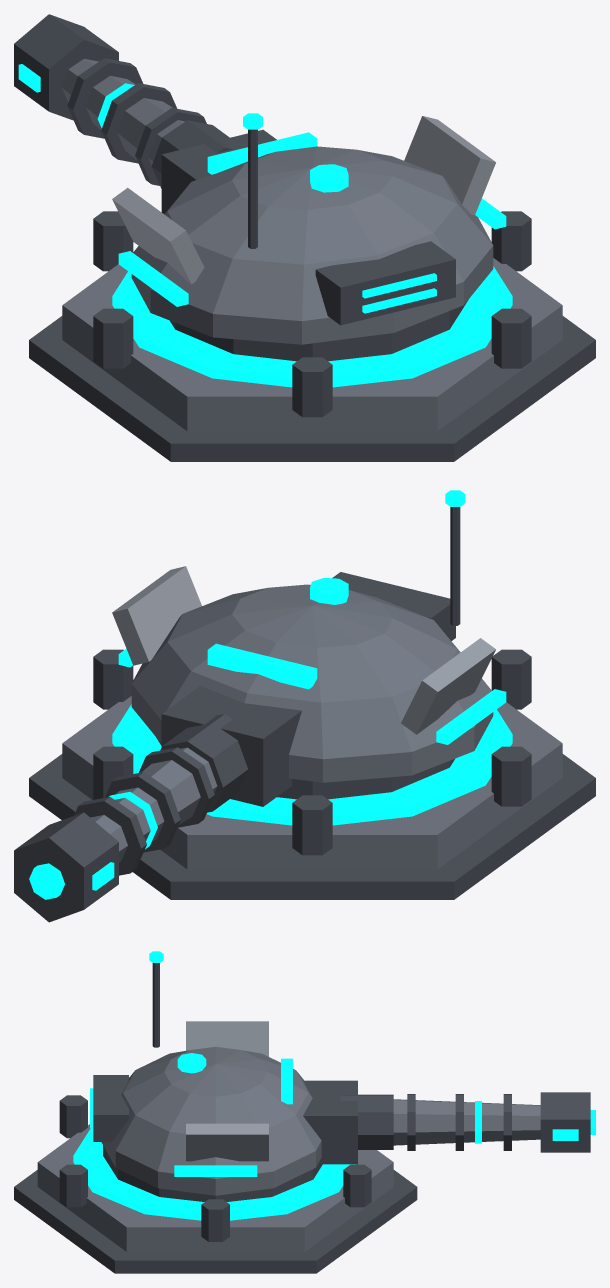
Rendered from turret_lvl2.glb.
3 renders of one model, top to bottom at view 1: azimuth 30°, elevation 25°; view 2: azimuth 150°, elevation 25°; view 3: azimuth 270°, elevation 25°, orthographic. The views are drawn at different scales.
Visible parts, largest first — view 1: Dome_05, Base_01, BaseSkirt_02, Neon_BaseRing_03, BackVent_21, MuzzleBrake_14, Pivot_04, ArmorPlate_25, ArmorPlate_24, BarrelTube_09, BarrelMount_07, BasePylon_32 (+14 smaller); view 2: Dome_05, Base_01, BaseSkirt_02, Neon_BaseRing_03, BarrelMount_07, MuzzleBrake_14, ArmorPlate_25, ArmorPlate_24, BarrelTube_09, BarrelSleeve_08, BackVent_21, Neon_Visor_18 (+14 smaller); view 3: Dome_05, Base_01, BaseSkirt_02, Neon_BaseRing_03, BarrelTube_09, BarrelMount_07, ArmorPlate_25, MuzzleBrake_14, ArmorPlate_24, BarrelSleeve_08, BackVent_21, Pivot_04 (+11 smaller).
Part boxes in pixels (left/top/right/bottom): Dome_05: left=131, top=146, right=493, bottom=344; Base_01: left=62, top=258, right=562, bottom=431; BaseSkirt_02: left=29, top=316, right=595, bottom=461; Neon_BaseRing_03: left=112, top=266, right=512, bottom=387; BackVent_21: left=315, top=241, right=455, bottom=325; MuzzleBrake_14: left=14, top=14, right=118, bottom=120; Pivot_04: left=170, top=299, right=468, bottom=361; ArmorPlate_25: left=404, top=116, right=495, bottom=215; ArmorPlate_24: left=112, top=187, right=204, bottom=284; BarrelTube_09: left=62, top=58, right=185, bottom=164; BarrelMount_07: left=161, top=129, right=276, bottom=213; BasePylon_32: left=292, top=357, right=332, bottom=417; Dome_05: left=131, top=584, right=493, bottom=782; Base_01: left=62, top=696, right=562, bottom=869; BaseSkirt_02: left=29, top=754, right=595, bottom=899; Neon_BaseRing_03: left=112, top=704, right=512, bottom=825; BarrelMount_07: left=161, top=686, right=301, bottom=806; MuzzleBrake_14: left=14, top=812, right=118, bottom=922; ArmorPlate_25: left=112, top=566, right=201, bottom=665; ArmorPlate_24: left=401, top=638, right=495, bottom=734; BarrelTube_09: left=90, top=747, right=217, bottom=862; BarrelSleeve_08: left=160, top=714, right=248, bottom=812; BackVent_21: left=332, top=572, right=455, bottom=640; Neon_Visor_18: left=207, top=643, right=317, bottom=689; Dome_05: left=101, top=1046, right=321, bottom=1195; Base_01: left=37, top=1124, right=393, bottom=1251; BaseSkirt_02: left=14, top=1170, right=417, bottom=1273; Neon_BaseRing_03: left=73, top=1128, right=356, bottom=1220; BarrelTube_09: left=393, top=1099, right=540, bottom=1145; BarrelMount_07: left=303, top=1080, right=357, bottom=1164; ArmorPlate_25: left=186, top=1123, right=268, bottom=1161; MuzzleBrake_14: left=540, top=1092, right=590, bottom=1152; ArmorPlate_24: left=186, top=1021, right=268, bottom=1056; BarrelSleeve_08: left=340, top=1094, right=393, bottom=1149; BackVent_21: left=93, top=1075, right=128, bottom=1141; Pivot_04: left=103, top=1145, right=322, bottom=1201.
Size of the model in its own units: 2.97 by 1.96 by 4.91.
